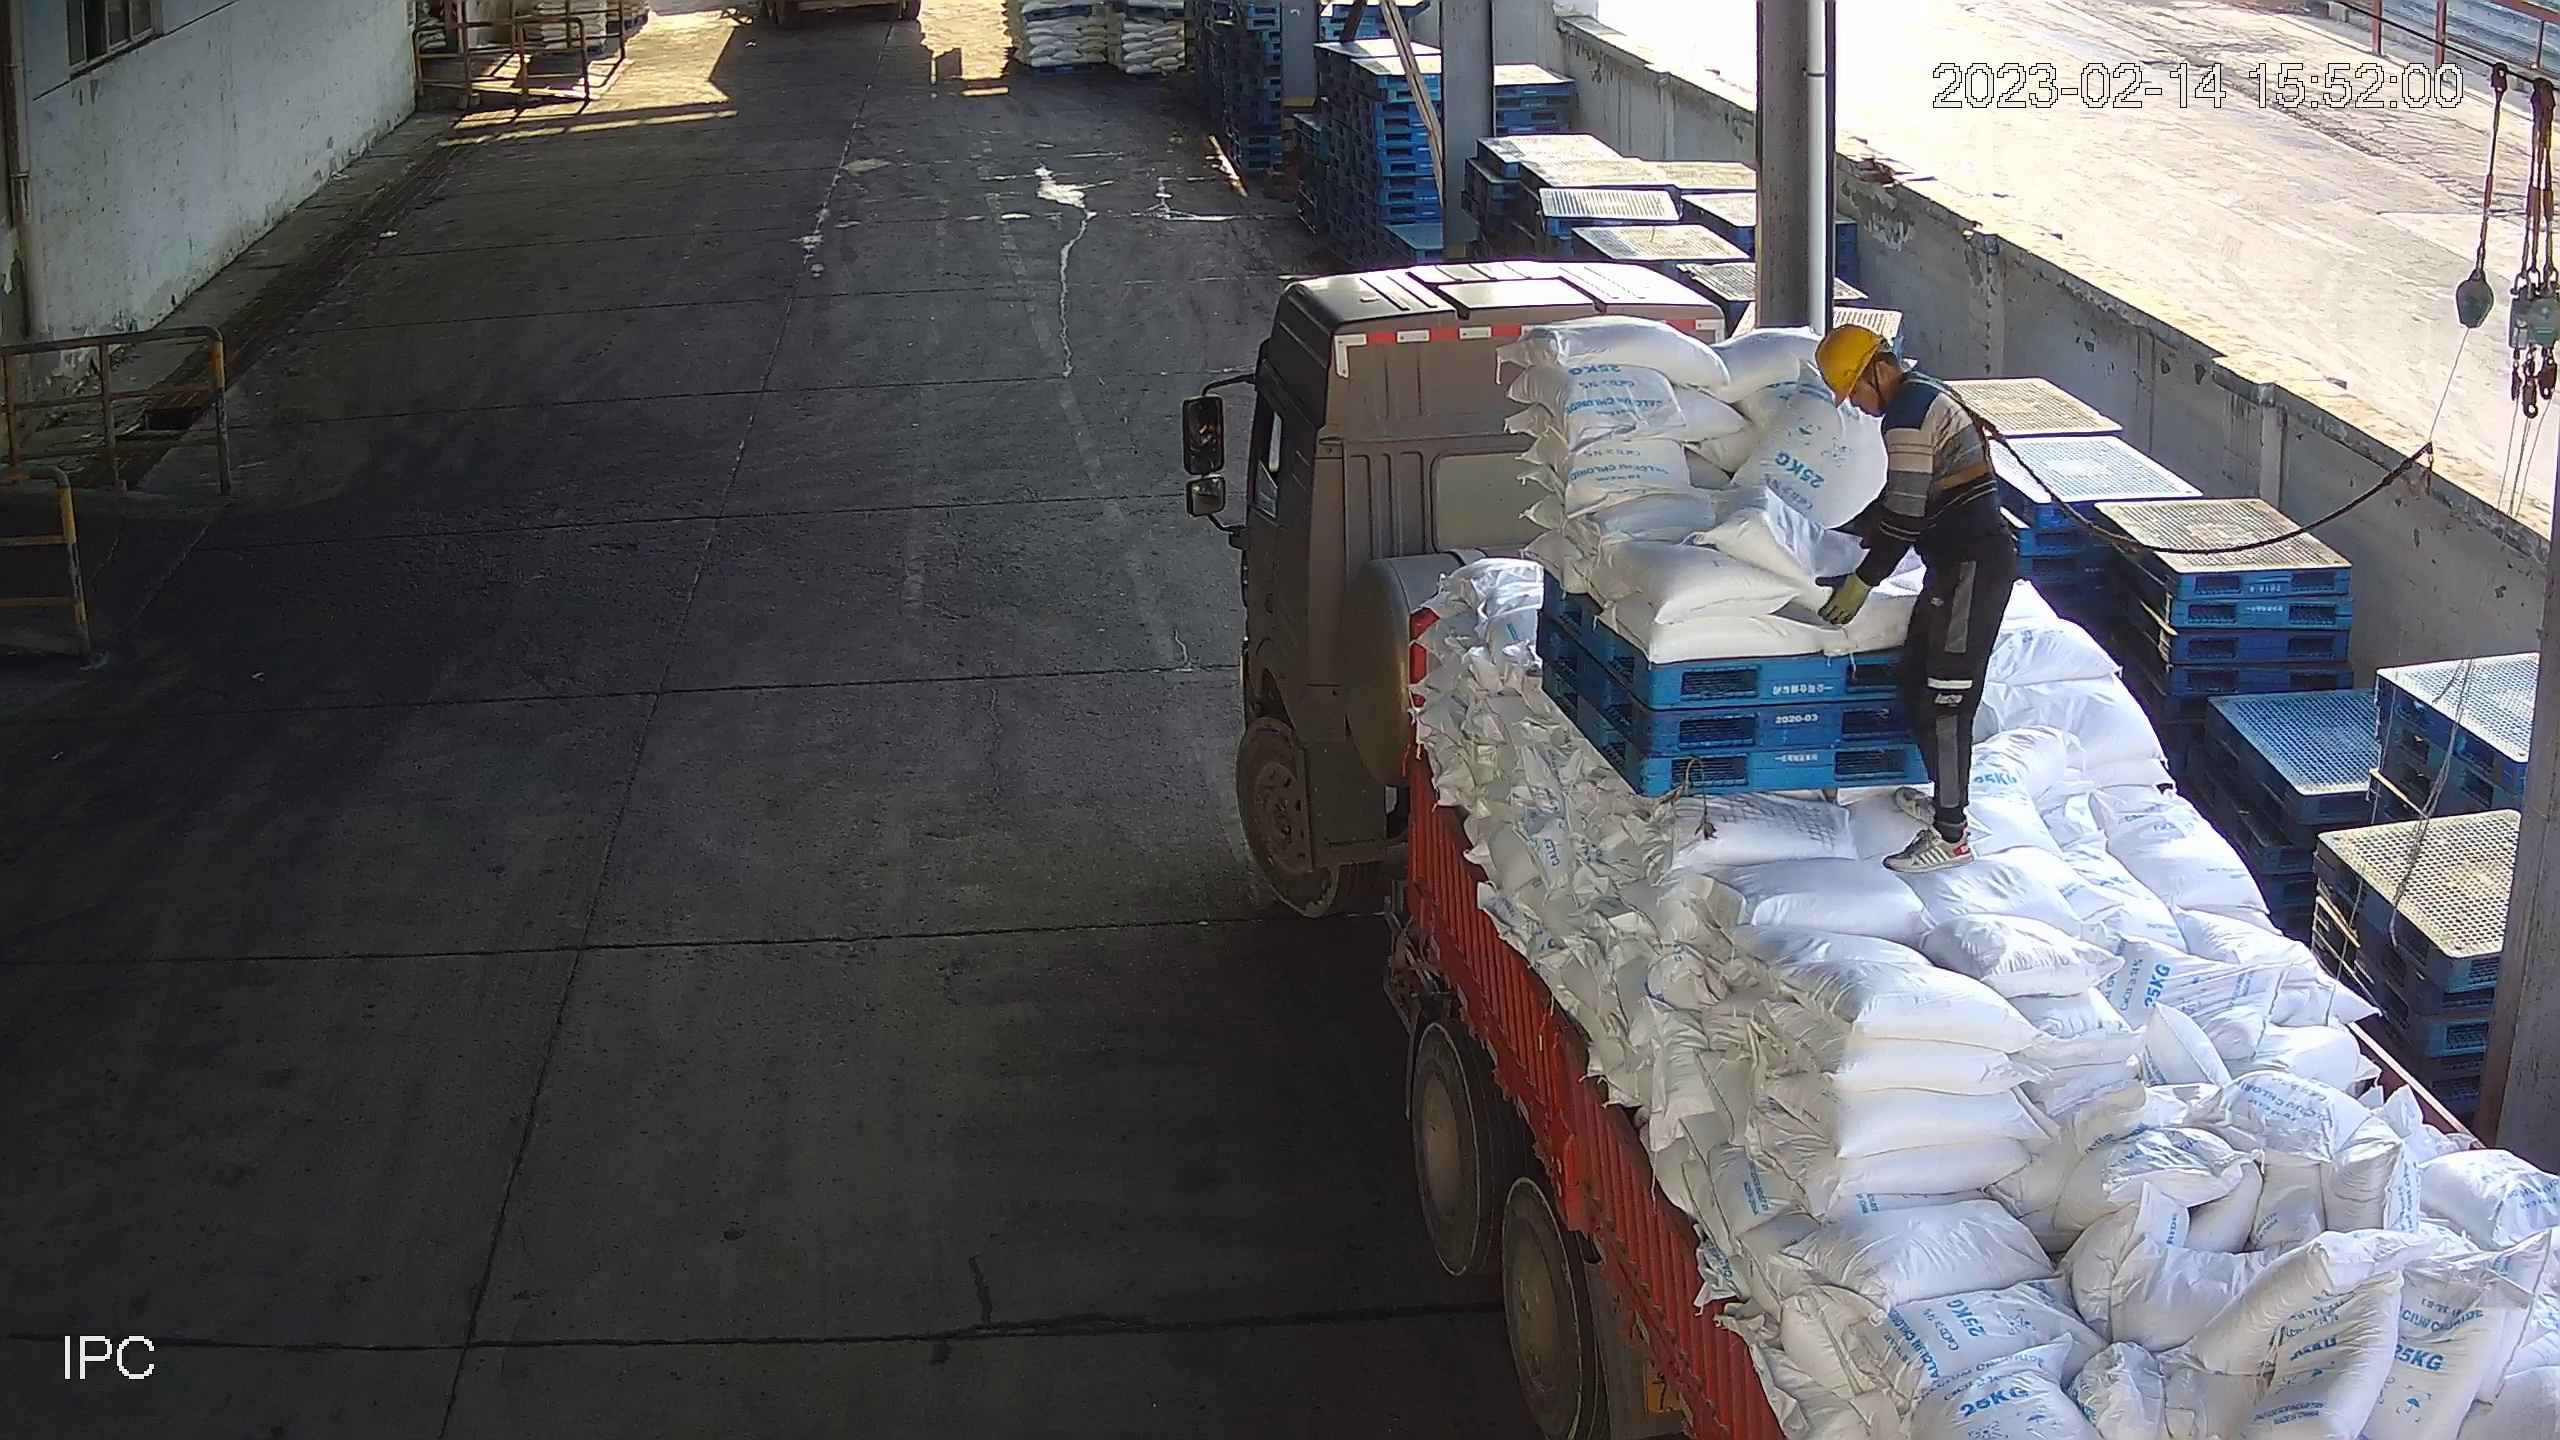belt: (1906, 365, 2028, 493)
head: (1814, 321, 1991, 441)
helmet: (1814, 322, 1887, 410)
people: (1814, 322, 2023, 875)
truck: (1228, 257, 2560, 1440)
